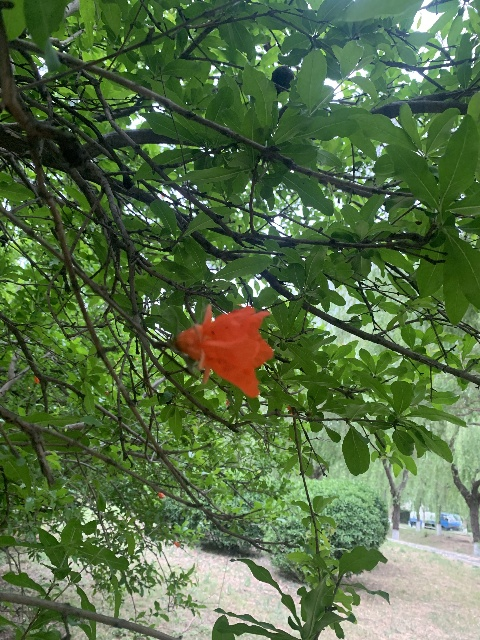bud: (157, 492, 165, 498)
flower: (173, 302, 273, 397)
